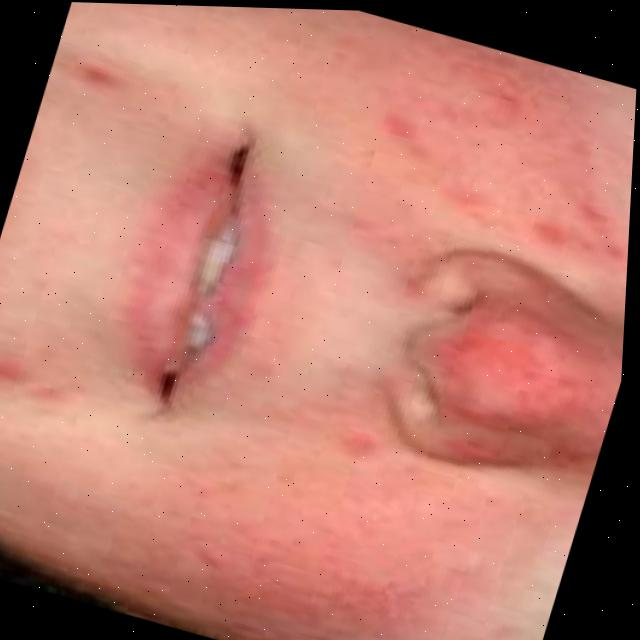Rosacea: (141, 436, 465, 640), (457, 51, 636, 248), (457, 307, 618, 465), (0, 333, 63, 399)
